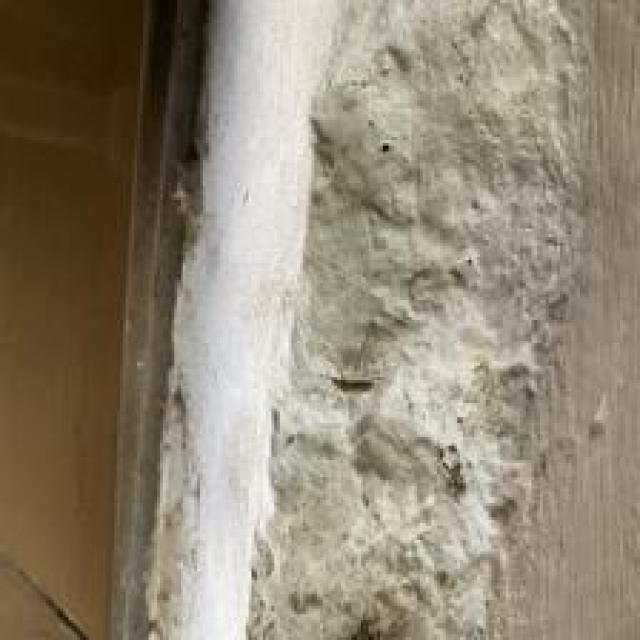Culex: (116, 0, 607, 640)
